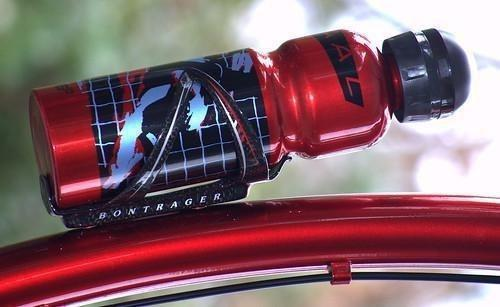gym bottle: (26, 25, 475, 225)
